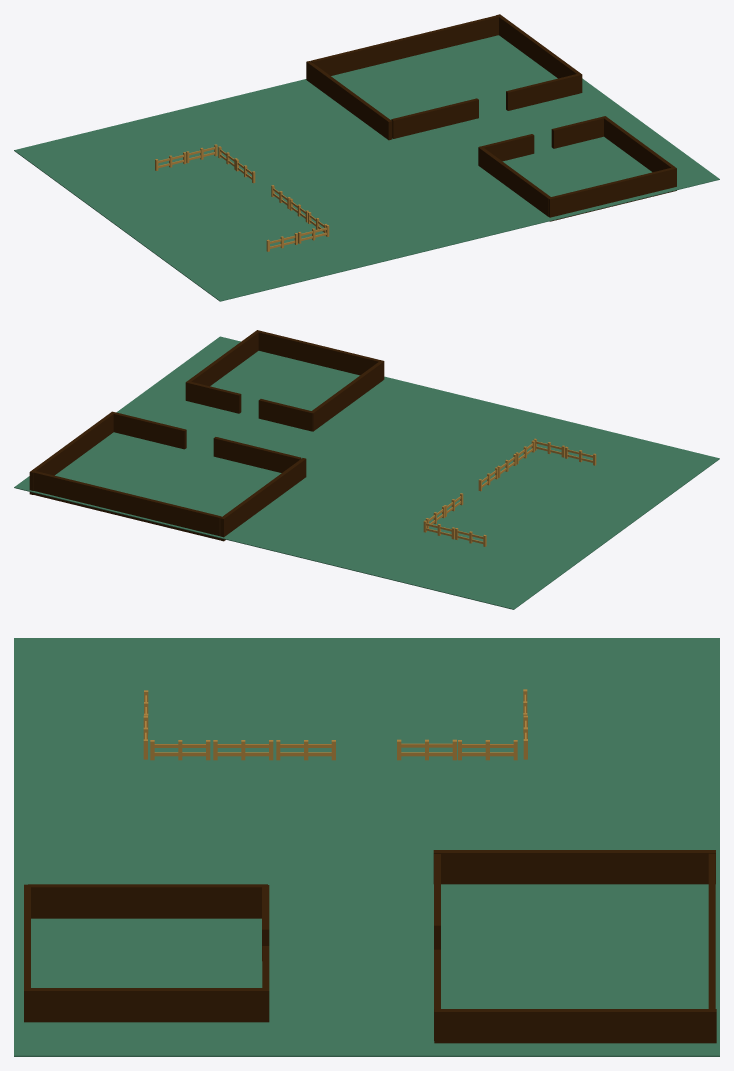
3 renders of one model, top to bottom at view 1: azimuth 30°, elevation 25°; view 2: azimuth 150°, elevation 25°; view 3: azimuth 270°, elevation 25°, orthographic. The views are drawn at different scales.
Visible parts, largest first — view 1: plan, Cube.004, Cube.002, Cube.010, Cube.007, Cube.009, Cube.001, Cube.008, Cube.003, Cube.006, Cube.005; view 2: plan, Cube.004, Cube.002, Cube.010, Cube.009, Cube.007, Cube.001, Cube.008, Cube.003, Cube.006, Cube.005; view 3: plan, Cube.009, Cube.010, Cube.003, Cube.001, Cube.004, Cube.002, fence_simpleCenter.004, fence_simpleCenter.002, fence_simpleCenter.003, fence_simpleCenter.001, fence_simpleCenter.005 (+1 smaller).
Boxes of the visible parts, bbox=[...] form: plan: bbox=[14, 35, 719, 301]; Cube.004: bbox=[310, 14, 501, 75]; Cube.002: bbox=[548, 167, 676, 221]; Cube.010: bbox=[306, 61, 392, 140]; Cube.007: bbox=[391, 98, 478, 138]; Cube.009: bbox=[496, 14, 582, 93]; Cube.001: bbox=[478, 146, 551, 216]; Cube.008: bbox=[506, 74, 579, 110]; Cube.003: bbox=[602, 116, 675, 172]; Cube.006: bbox=[551, 116, 605, 148]; Cube.005: bbox=[479, 134, 534, 161]; plan: bbox=[14, 336, 719, 609]; Cube.004: bbox=[33, 471, 221, 540]; Cube.002: bbox=[255, 330, 384, 379]; Cube.010: bbox=[220, 458, 306, 541]; Cube.009: bbox=[29, 411, 115, 494]; Cube.007: bbox=[213, 437, 301, 472]; Cube.001: bbox=[310, 361, 383, 431]; Cube.008: bbox=[113, 412, 186, 449]; Cube.003: bbox=[186, 331, 258, 386]; Cube.006: bbox=[185, 381, 241, 413]; Cube.005: bbox=[258, 399, 313, 431]; plan: bbox=[14, 638, 719, 1056]; Cube.009: bbox=[434, 1009, 716, 1043]; Cube.010: bbox=[433, 850, 715, 884]; Cube.003: bbox=[28, 988, 268, 1022]; Cube.001: bbox=[28, 884, 267, 918]; Cube.004: bbox=[708, 853, 715, 1011]; Cube.002: bbox=[24, 884, 30, 1022]; fence_simpleCenter.004: bbox=[397, 739, 456, 760]; fence_simpleCenter.002: bbox=[213, 740, 273, 760]; fence_simpleCenter.003: bbox=[150, 740, 210, 760]; fence_simpleCenter.001: bbox=[276, 740, 335, 760]; fence_simpleCenter.005: bbox=[458, 740, 517, 760].
Size of the model in its own units: 140 by 6 by 100.
